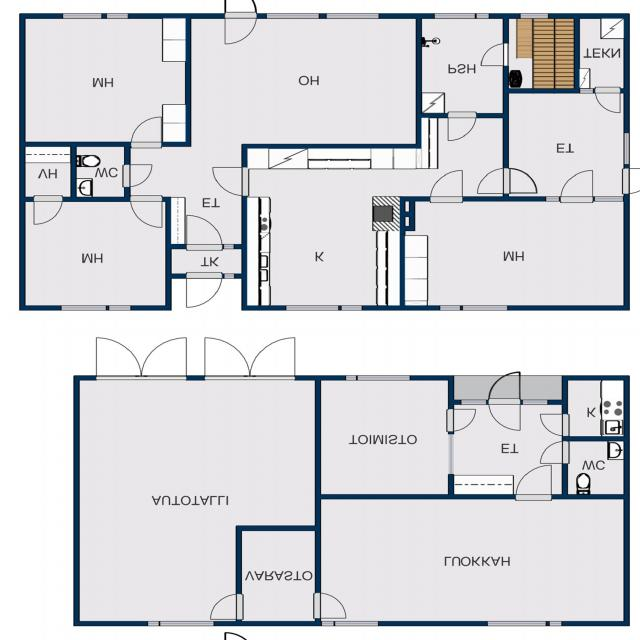door: (204, 335, 250, 380), (96, 335, 142, 380), (250, 335, 295, 380), (142, 335, 186, 380), (516, 462, 552, 499), (186, 213, 222, 249), (187, 274, 222, 309), (488, 399, 520, 434), (488, 371, 520, 405), (430, 168, 462, 201), (560, 168, 592, 201), (210, 168, 248, 195), (225, 14, 256, 47), (131, 197, 162, 230), (131, 114, 161, 147), (315, 593, 349, 618), (208, 594, 242, 619), (475, 168, 509, 193), (503, 168, 537, 193), (34, 196, 62, 226), (448, 113, 476, 143), (595, 88, 621, 115), (125, 164, 155, 187), (537, 414, 568, 436), (478, 44, 509, 66), (538, 442, 568, 463), (448, 410, 478, 430), (225, 0, 256, 19), (624, 168, 640, 194)
